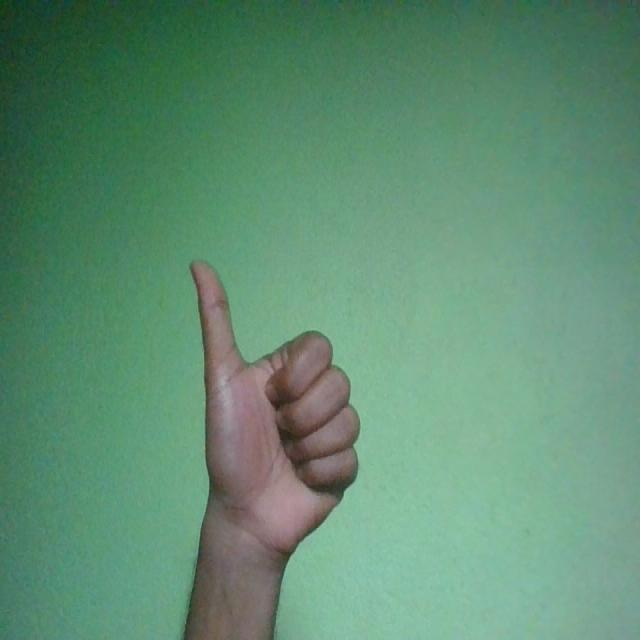Good Job: (187, 260, 361, 562)
